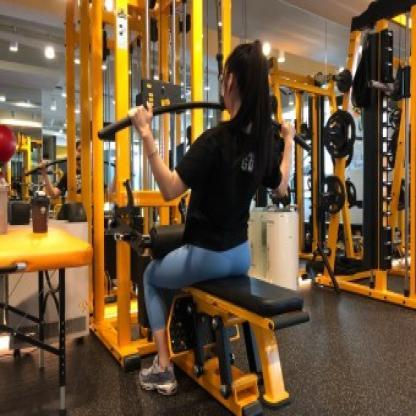Lat Pull Down: (0, 0, 333, 416)
